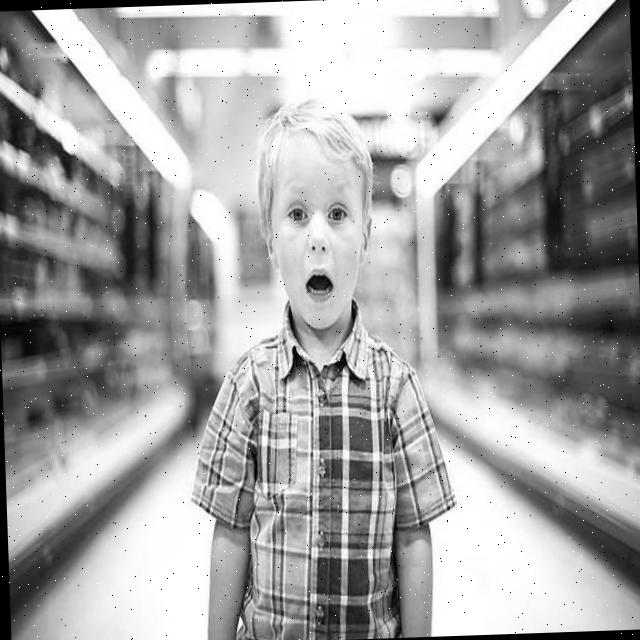Fear: (268, 136, 369, 331)
